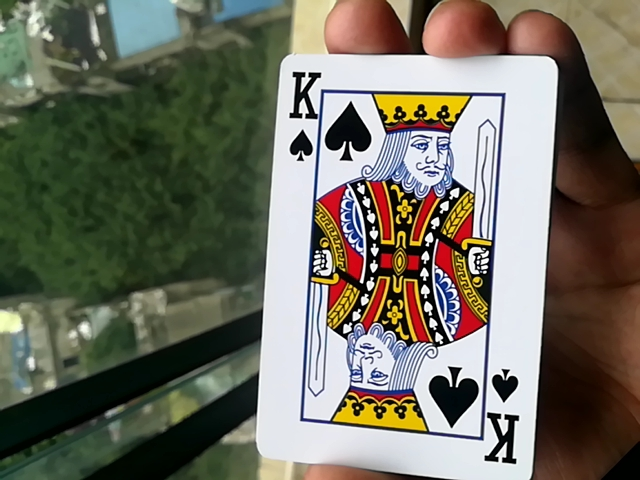ht k: (250, 53, 546, 478)
